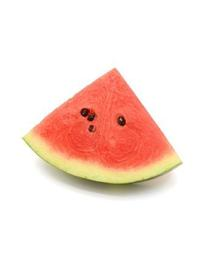watermelon: (23, 65, 182, 189)
